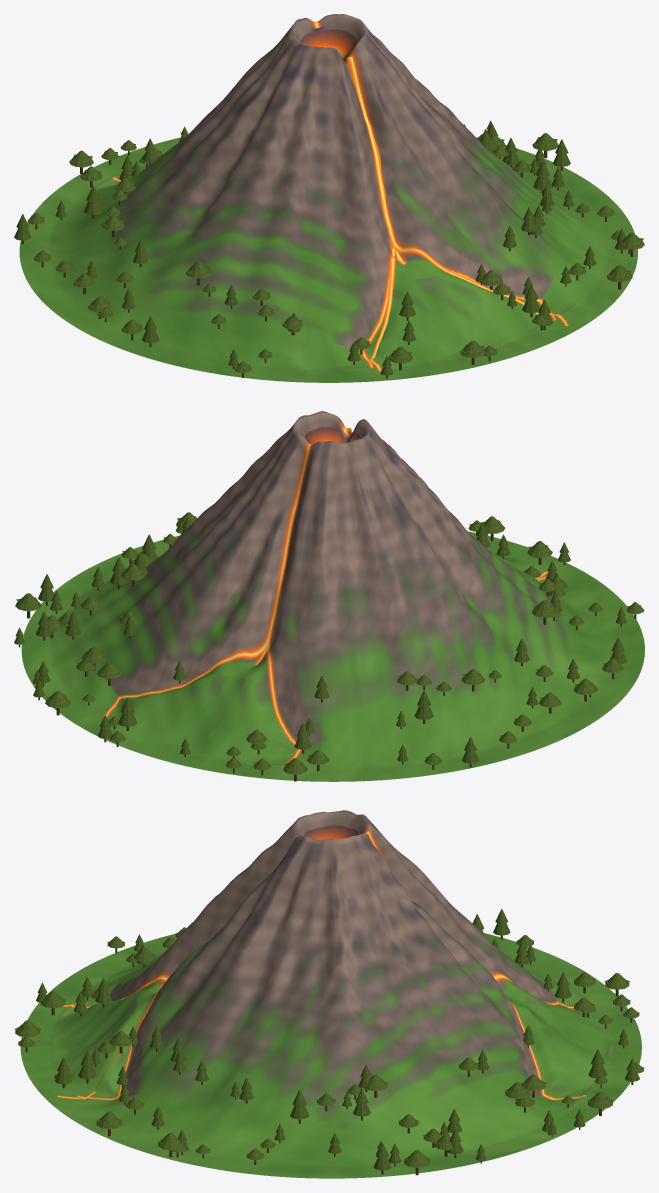
Rendered from volcano.glb.
3 renders of one model, top to bottom at view 1: azimuth 30°, elevation 25°; view 2: azimuth 150°, elevation 25°; view 3: azimuth 270°, elevation 25°, orthographic.
Parts seen in each view (by area): view 1: Volcano, Trees, LavaMain, LavaR, LavaL; view 2: Volcano, Trees; view 3: Volcano, Trees.
Part boxes in pixels (x1,y1,x2,y2): Volcano: [19, 14, 637, 382]; Trees: [14, 120, 644, 378]; LavaMain: [345, 56, 402, 261]; LavaR: [368, 248, 396, 371]; LavaL: [388, 228, 568, 326]; Volcano: [21, 411, 644, 781]; Trees: [14, 512, 644, 781]; Volcano: [20, 810, 641, 1178]; Trees: [14, 909, 644, 1175].
Size of the model in its own units: 266 by 105 by 268.
Materials: 4 (4 with a texture image).
